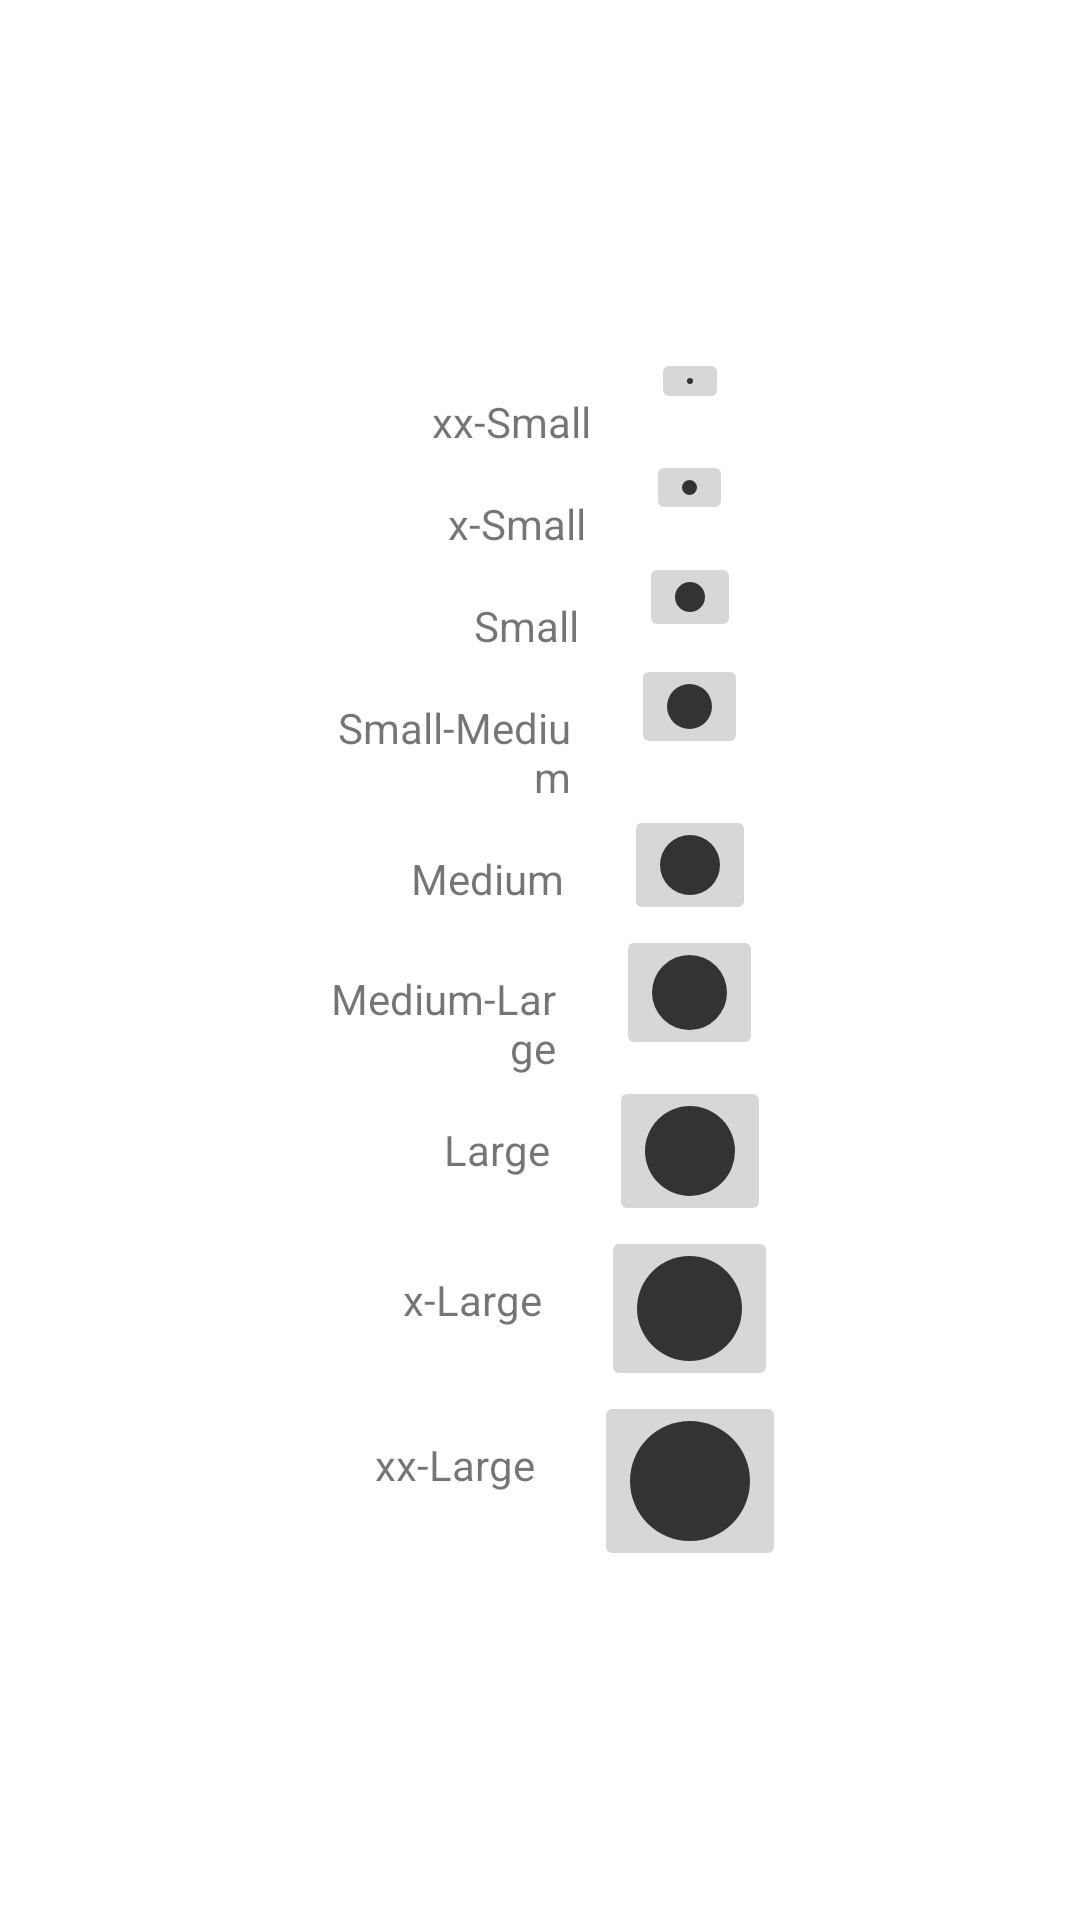

Where to tap for icons on this 1080px×1920px app screen, as (x=x, y=y):
Extra Extra Large Brush Size: (x=690, y=1481)
